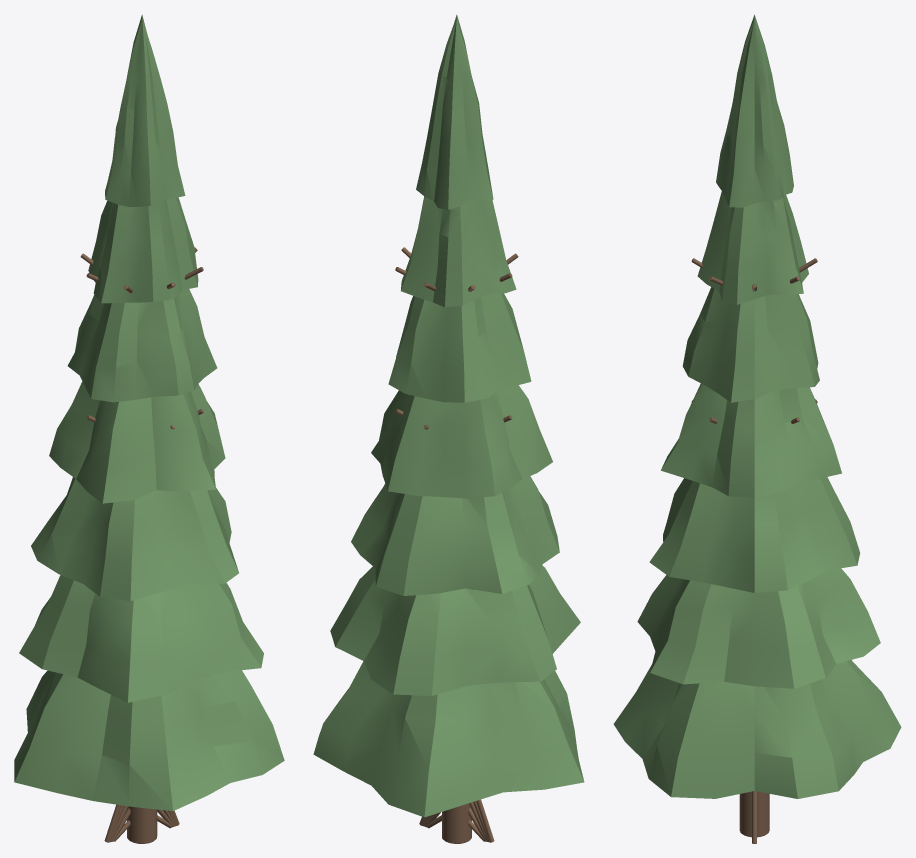
File: tree_conifer_03.glb
The picture shows the model from 3 angles, left to right: view 1: azimuth 30°, elevation 25°; view 2: azimuth 150°, elevation 25°; view 3: azimuth 270°, elevation 25°; orthographic projection.
Visible parts, largest first — view 1: Canopy_Mesh, Trunk_Mesh; view 2: Canopy_Mesh, Trunk_Mesh; view 3: Canopy_Mesh, Trunk_Mesh.
Part boxes in pixels (box(x1,y1,x2,y2)): Canopy_Mesh: box(14, 14, 284, 810); Trunk_Mesh: box(80, 247, 203, 843); Canopy_Mesh: box(313, 14, 584, 817); Trunk_Mesh: box(395, 247, 518, 843); Canopy_Mesh: box(613, 14, 901, 798); Trunk_Mesh: box(691, 258, 817, 843).
Bounding box in the file's own units: 6.3 × 20.36 × 6.5.
